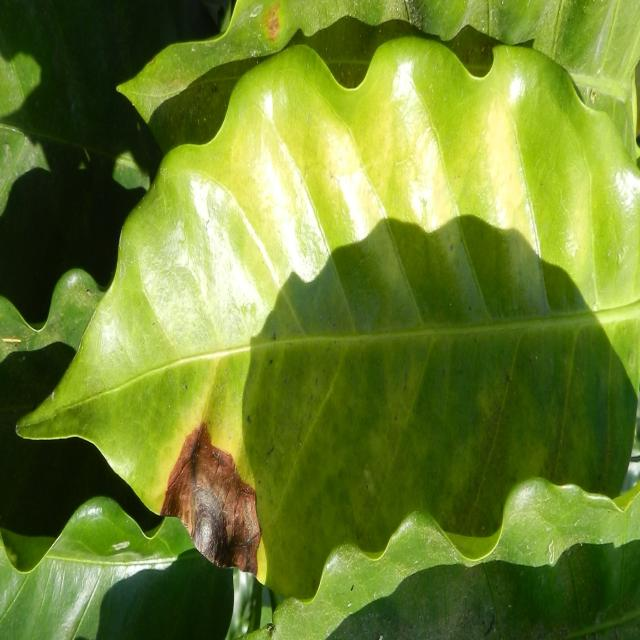Enfermedad-Mancha-de-hierro: (14, 35, 640, 640)
